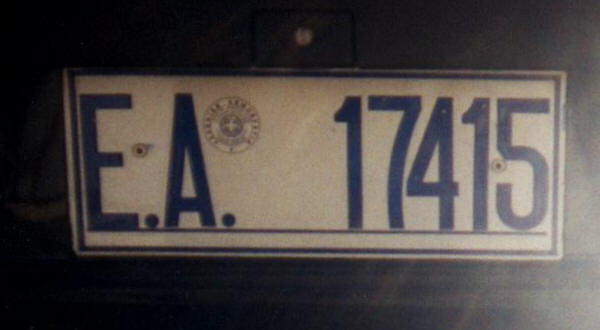license_plate: (62, 66, 565, 260)
